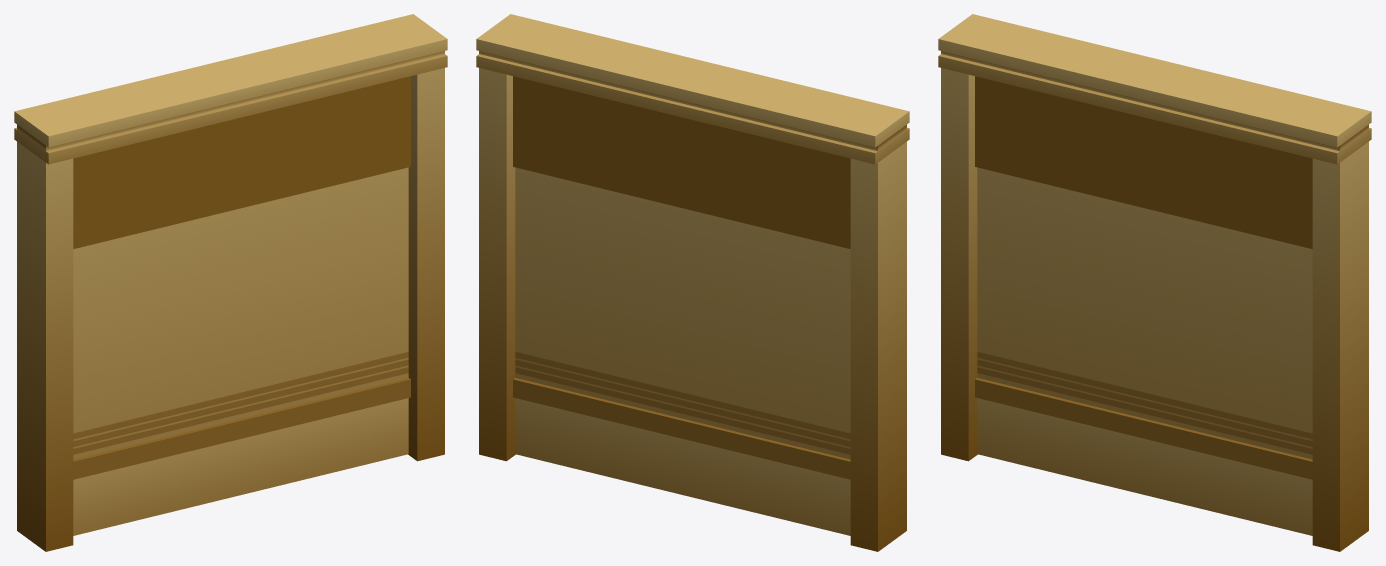
File: Enviroment__Pintu.fbx
3 renders of one model, left to right at view 1: azimuth 30°, elevation 25°; view 2: azimuth 150°, elevation 25°; view 3: azimuth 330°, elevation 25°, orthographic.
Visible parts, largest first — view 1: Cube.033, Cube.032; view 2: Cube.033, Cube.032; view 3: Cube.033, Cube.032.
Boxes of the visible parts, x1,y1,x2,y2 form: Cube.033: (73, 76, 410, 535); Cube.032: (14, 14, 447, 551); Cube.033: (513, 76, 850, 535); Cube.032: (476, 14, 909, 551); Cube.033: (975, 76, 1312, 535); Cube.032: (938, 14, 1371, 551).
Size of the model in its own units: 40 by 40 by 5.94.
